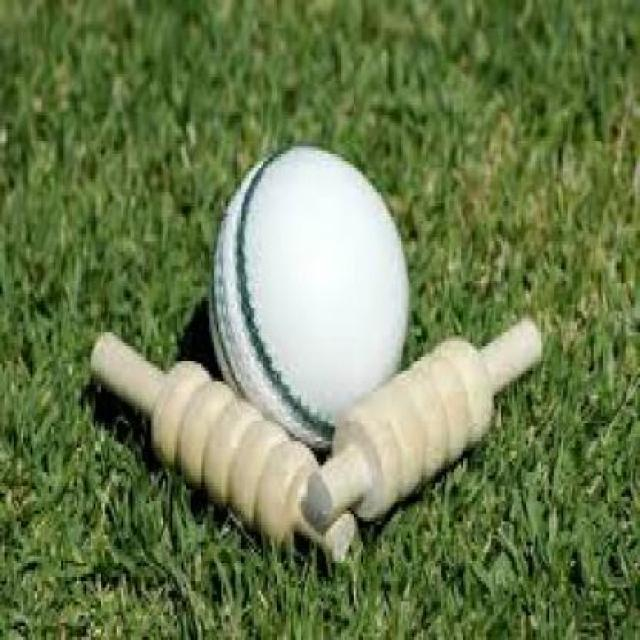ball: (172, 107, 446, 442)
